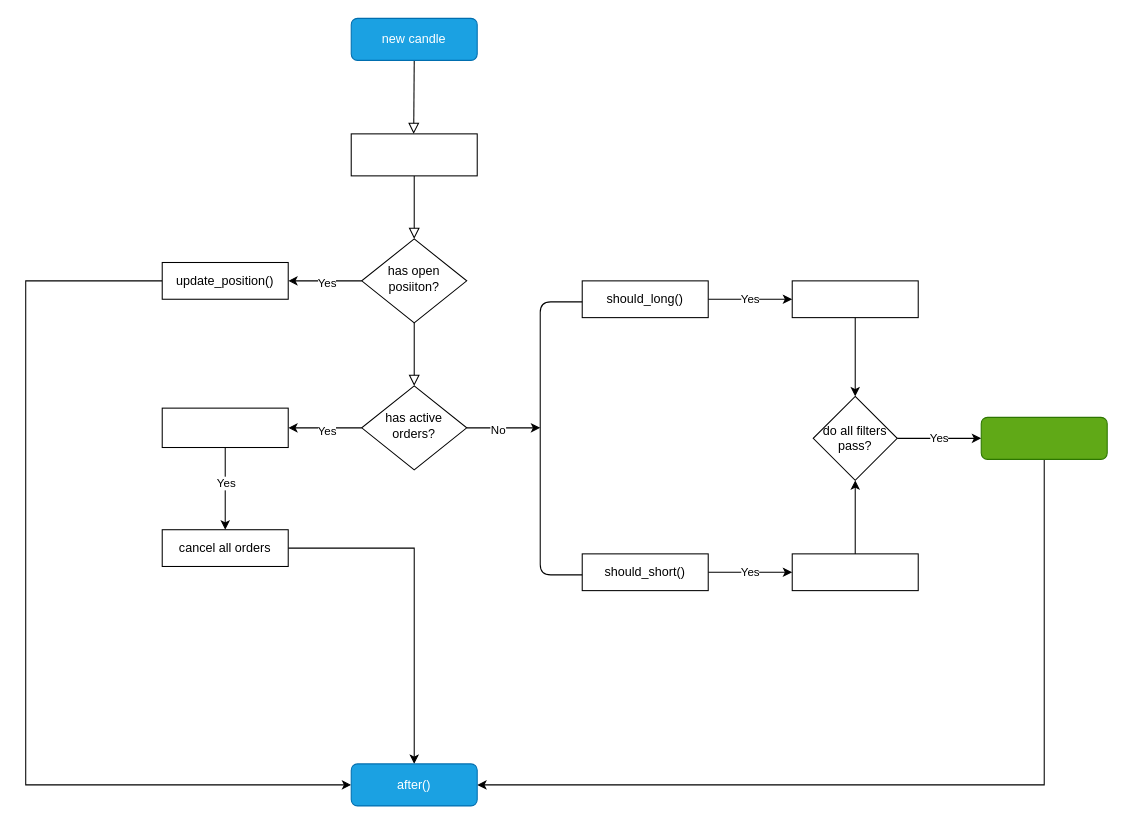
Some shapes in this 1126 by 824 pixel diagram are drawn without their labels. Each missing label, with the box of its shape:
before(): (350, 133, 477, 176)
go_long(): (791, 280, 918, 318)
go_short(): (791, 553, 918, 591)
should_cancel(): (161, 407, 288, 448)
Submit entry orders: (980, 416, 1107, 459)
